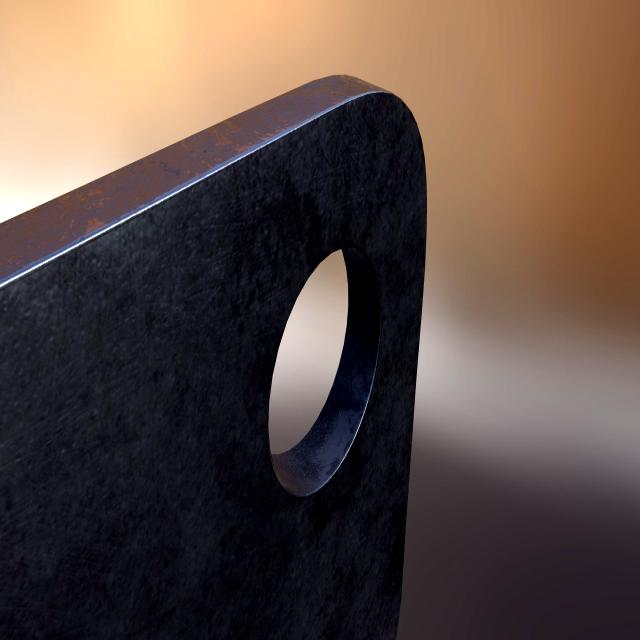cleaver: (0, 67, 434, 640)
